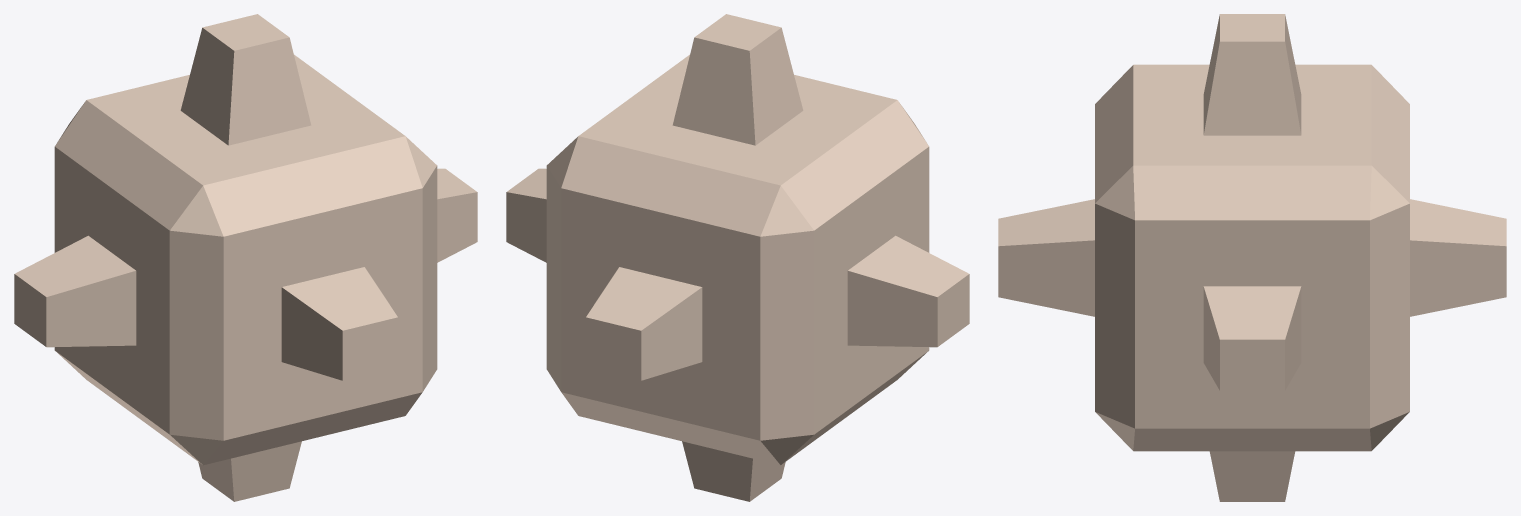
File: silver_pharaoh.gltf
3 renders of one model, left to right at view 1: azimuth 30°, elevation 25°; view 2: azimuth 150°, elevation 25°; view 3: azimuth 270°, elevation 25°, orthographic. The views are drawn at different scales.
Parts seen in each view (by area): view 1: Plane.027; view 2: Plane.027; view 3: Plane.027.
Part boxes in pixels (x1,y1,x2,y2): Plane.027: (14,14,477,501); Plane.027: (506,14,969,501); Plane.027: (998,14,1506,501).
Size of the model in its own units: 2.39 by 2.39 by 2.39.
